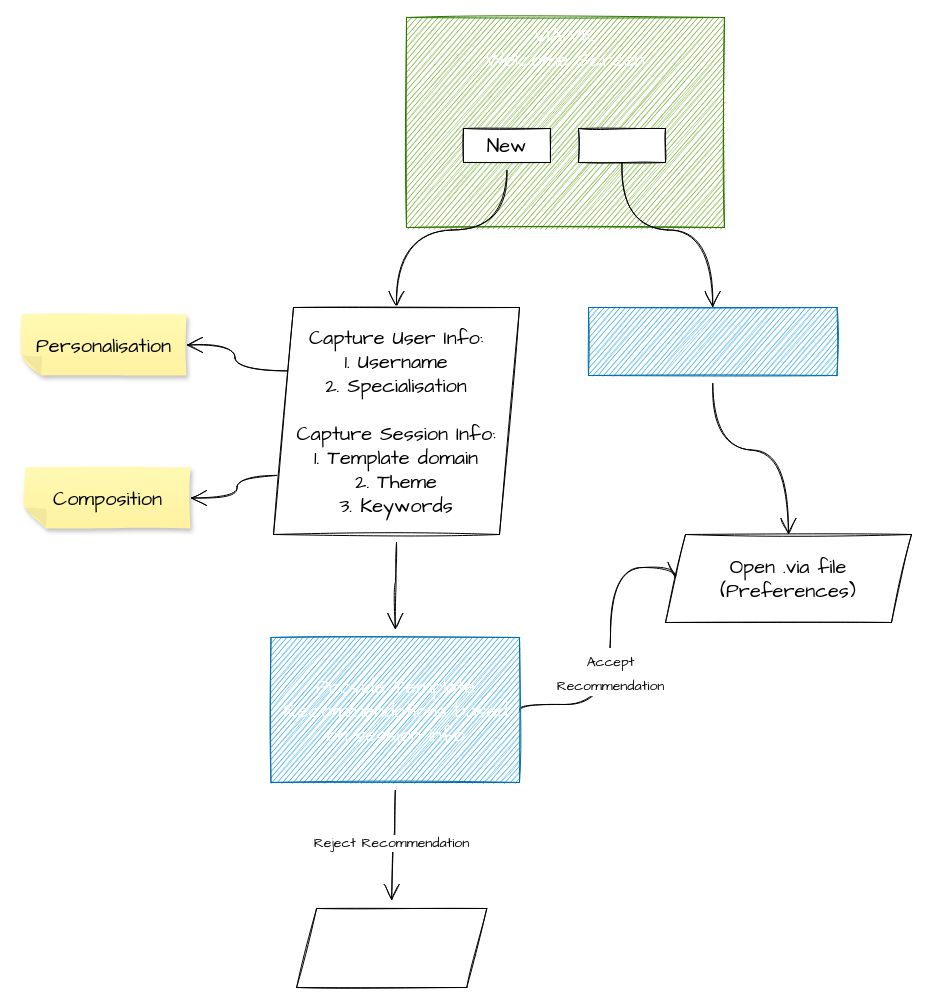
The diagram is 929 pixels wide and 1005 high, and some of its shapes have lost their labels. Here are the shapes that lost their labels. From the top down, the centre of each, then its label:
point 622,145: Open
point 712,341: No Recommendations
point 391,948: Start empty project
